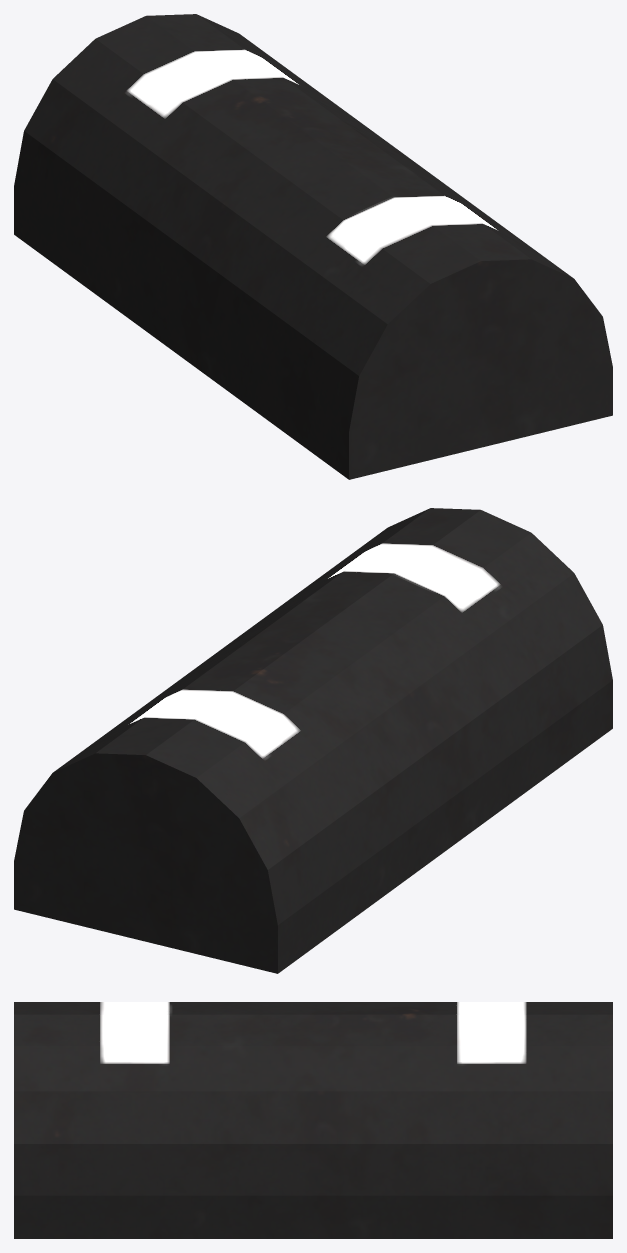
The model's file is side_box_3.fbx.
3 views of the same model, one above another, from view 1: azimuth 30°, elevation 25°; view 2: azimuth 150°, elevation 25°; view 3: azimuth 270°, elevation 25° (orthographic). The views are drawn at different scales.
Visible parts, largest first — view 1: side_box_3; view 2: side_box_3; view 3: side_box_3.
Part boxes in pixels (<box>): side_box_3: <box>14,14,612,479</box>; side_box_3: <box>14,508,612,973</box>; side_box_3: <box>14,1002,612,1238</box>.
Bounding box in the file's own units: 3.43 × 2.32 × 7.56.
